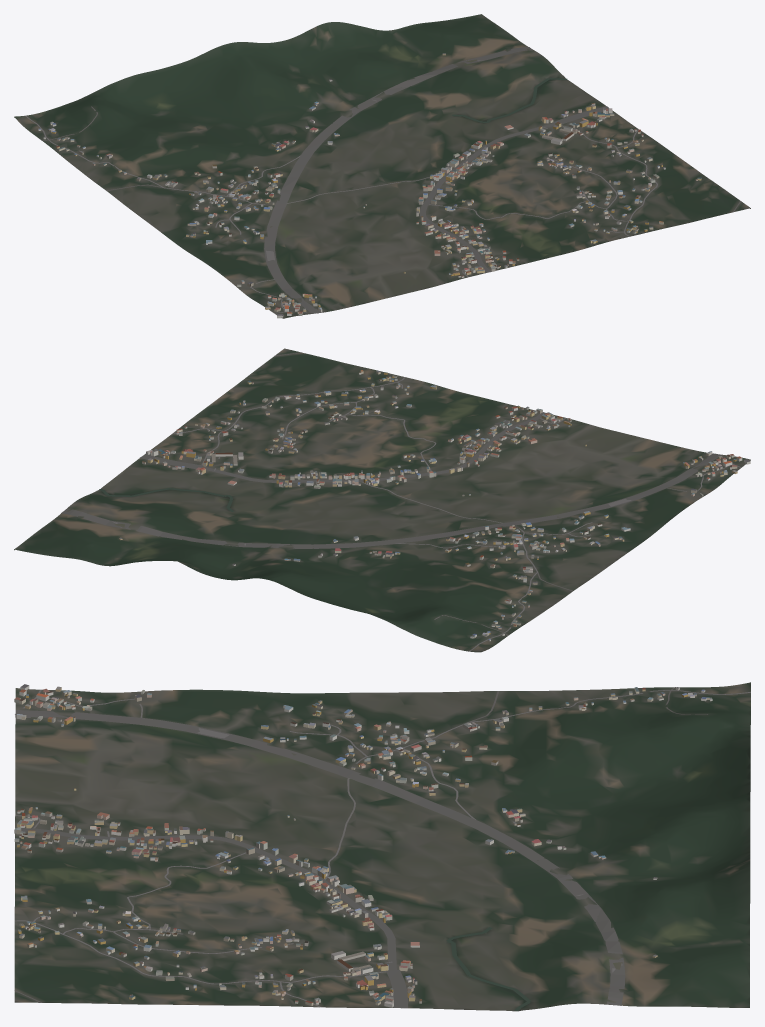
The picture shows the model from 3 angles, top to bottom: view 1: azimuth 30°, elevation 25°; view 2: azimuth 150°, elevation 25°; view 3: azimuth 270°, elevation 25°; orthographic projection. The views are drawn at different scales.
Visible parts, largest first — view 1: ground, buildings, roads; view 2: ground, buildings, roads; view 3: ground, buildings, roads, water.
Part boxes in pixels (box(x1,y1,x2,y2)): ground: box(14, 14, 750, 318); buildings: box(38, 53, 701, 318); roads: box(25, 47, 741, 313); ground: box(14, 348, 750, 652); buildings: box(119, 370, 750, 641); roads: box(61, 352, 741, 651); ground: box(14, 682, 750, 1011); buildings: box(14, 684, 712, 1007); roads: box(14, 687, 750, 1008); water: box(446, 927, 530, 1011).
Bounding box in the file's own units: 1412 × 102 × 1405.
